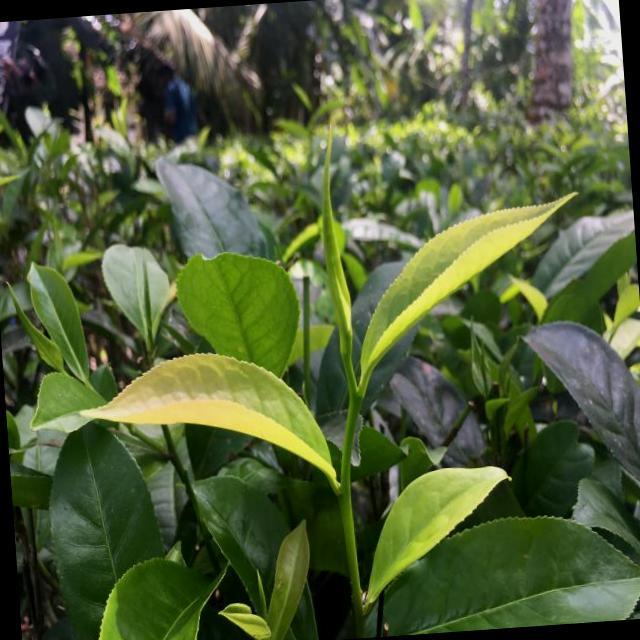Stem: (350, 391, 362, 403)
